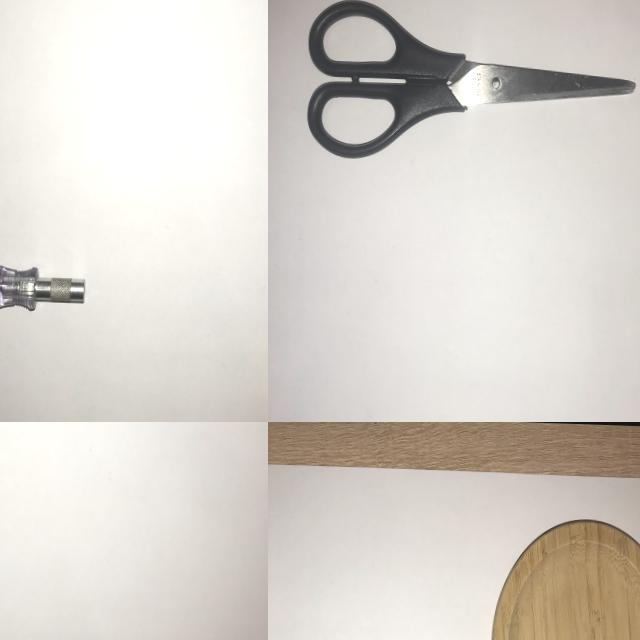cup_holder: (480, 510, 640, 640)
scissors: (294, 0, 640, 172)
screwdriver: (0, 249, 90, 326)
